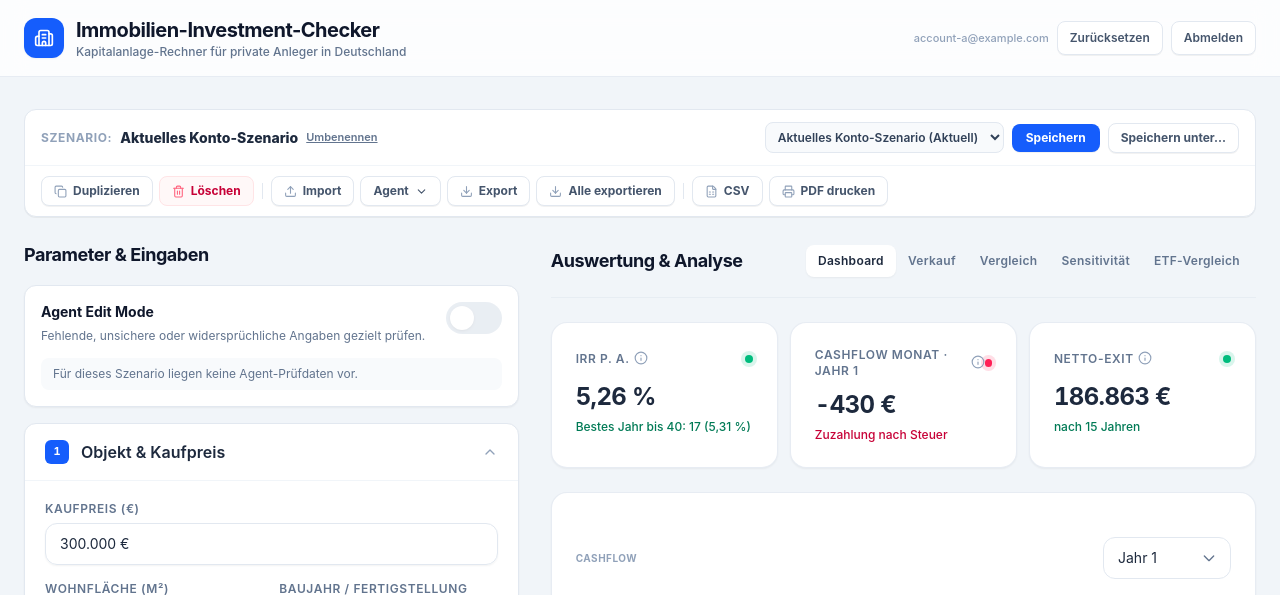
Test: Agent-Draft-Ablauf › stellt die Browser-Agent-API erst bewusst im angemeldeten Konto bereit
The image size is (1280, 595).
Click the button with aria-label "Agent-Menü" at coordinates (401, 191), box [360,176,441,206]
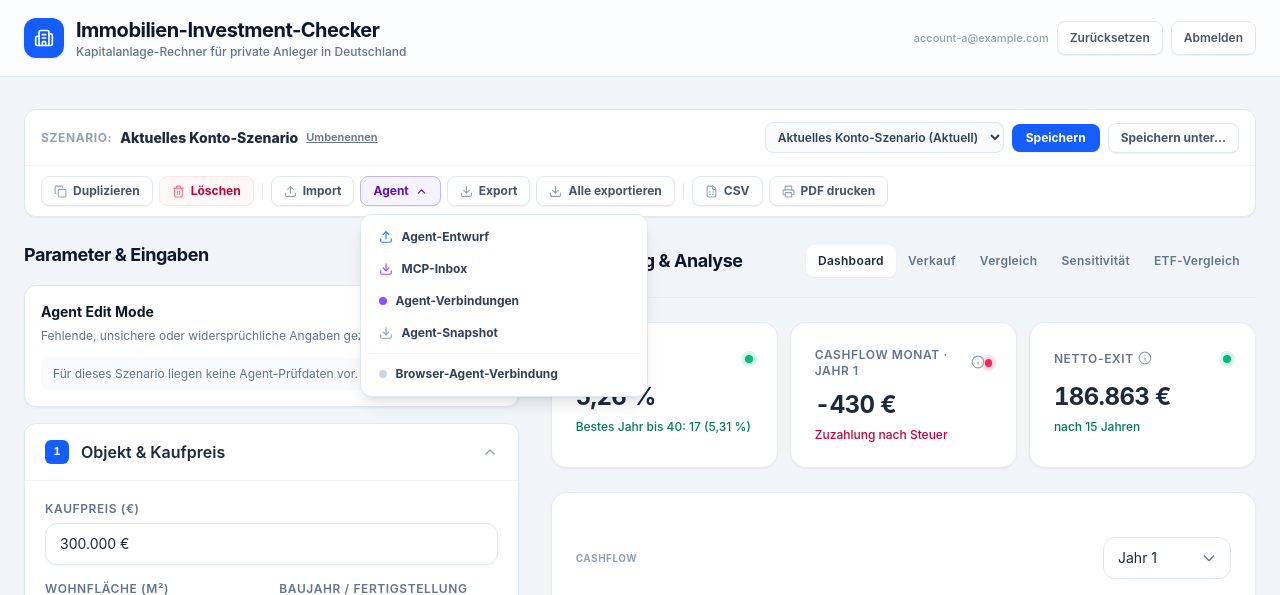
Click the menu item "Browser-Agent-Verbindung" at coordinates (504, 374), box [368,358,642,390]
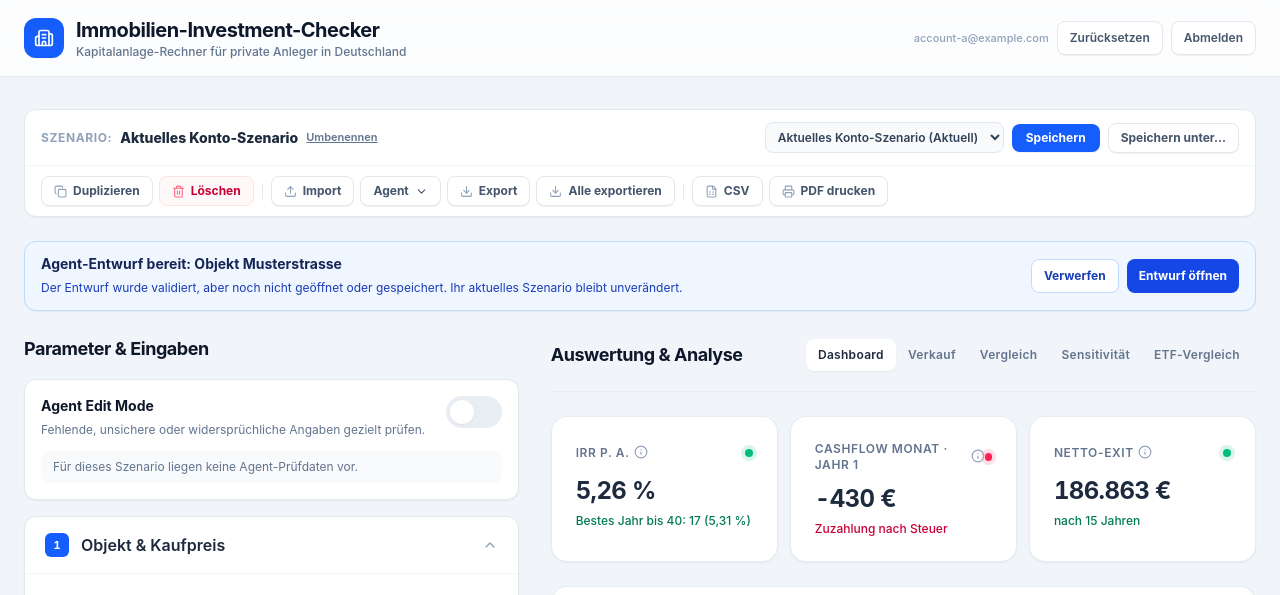
Expected: the text "Aktuelles Konto-Szenario" is shown, [120,128,298,148]
Expected: the text "Agent-Entwurf bereit: Objekt Musterstrasse" is shown, [41,255,342,272]
